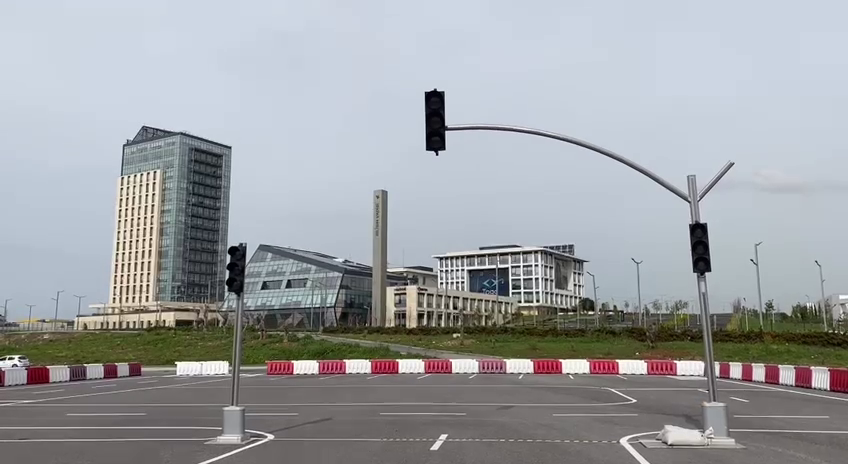trafficLight: (420, 83, 449, 157), (686, 219, 715, 276), (223, 239, 248, 296)
